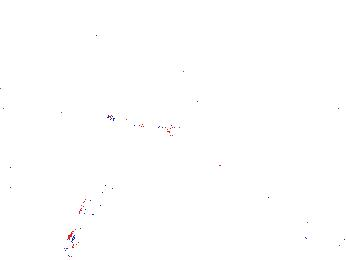X-ray fish: (205, 159, 238, 211)
glassfish: (66, 159, 131, 259), (197, 132, 268, 196)
redtail glassfish: (103, 112, 176, 145)
